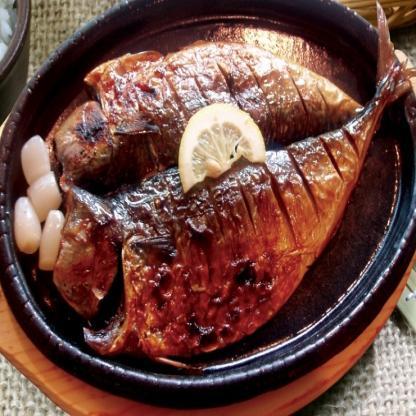Peixe: (45, 28, 413, 374)
